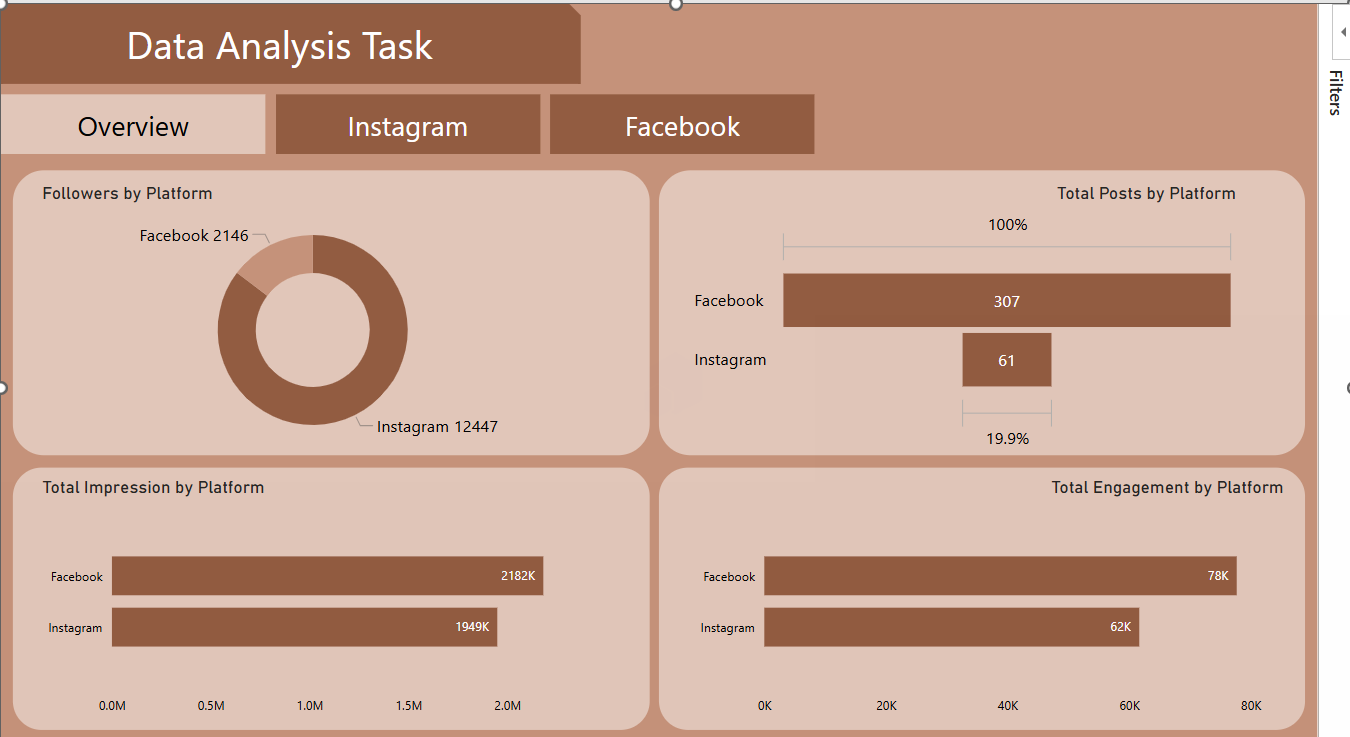

The dashboard page shown, as its layout file describes it:
{"tool":"powerbi","page":{"name":"Overview","canvas":[1280,720],"ordinal":0},"visuals":[{"type":"textbox","box":[116.2,8.8,327.5,63.8],"z":3},{"type":"pageNavigator","box":[0,87.5,791.2,58.8],"z":4},{"type":"donutChart","fields":{"Y":["Sum(Table (2).Followers)"],"Category":["Table (2).Platform"]},"box":[35,173.8,536.2,267.5],"z":5},{"type":"barChart","title":"Total Impression by Platform","fields":{"Category":["Table (2).Platform"],"Y":["Sum(Table (2).Impression)"]},"box":[35,460,553.8,241.2],"z":7},{"type":"funnel","fields":{"Category":["Table (2).Platform"],"Y":["Sum(Table (2).Total Posts)"]},"box":[668.8,173.8,536.2,267.5],"z":8},{"type":"clusteredBarChart","fields":{"Category":["Table (2).Platform"],"Y":["Sum(Table (2).Total Engagement)"]},"box":[668.8,460,582.5,241.2],"z":9}]}

Visuals, with their boxes on the page's 1280x720 design canvas (x1, y1, x2, y2). These are canvas units, not pixel positions in the 1350x737 screenshot, which may show the page scaled, cropped or inside an application window:
textbox: {"left": 116, "top": 9, "right": 444, "bottom": 73}
pageNavigator: {"left": 0, "top": 88, "right": 791, "bottom": 146}
donutChart - Sum(Table (2).Followers) x Table (2).Platform: {"left": 35, "top": 174, "right": 571, "bottom": 441}
"Total Impression by Platform" barChart: {"left": 35, "top": 460, "right": 589, "bottom": 701}
funnel - Table (2).Platform x Sum(Table (2).Total Posts): {"left": 669, "top": 174, "right": 1205, "bottom": 441}
clusteredBarChart - Table (2).Platform x Sum(Table (2).Total Engagement): {"left": 669, "top": 460, "right": 1251, "bottom": 701}
